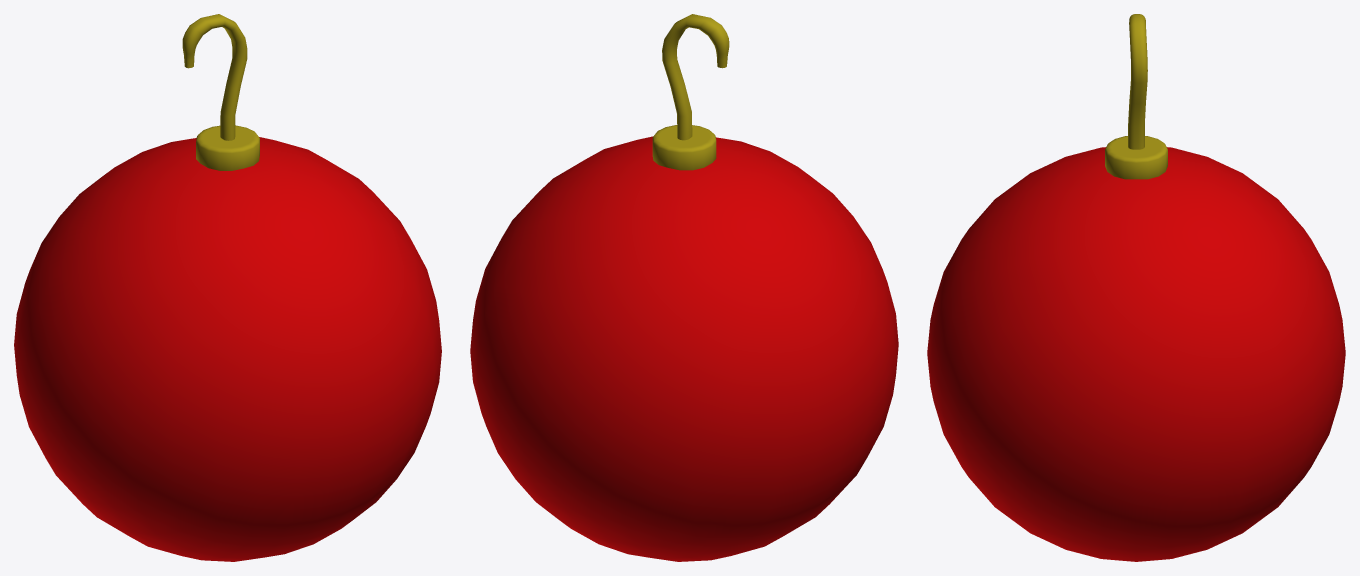
File: ball_red.glb
3 renders of one model, left to right at view 1: azimuth 30°, elevation 25°; view 2: azimuth 150°, elevation 25°; view 3: azimuth 270°, elevation 25°, orthographic. The views are drawn at different scales.
Parts seen in each view (by area): view 1: Ball_red; view 2: Ball_red; view 3: Ball_red.
Boxes of the visible parts, left/top/right/bottom form: Ball_red: left=14, top=14, right=441, bottom=561; Ball_red: left=470, top=14, right=898, bottom=561; Ball_red: left=927, top=14, right=1345, bottom=561.
Bounding box in the file's own units: 0.0902 × 0.1229 × 0.0902.
